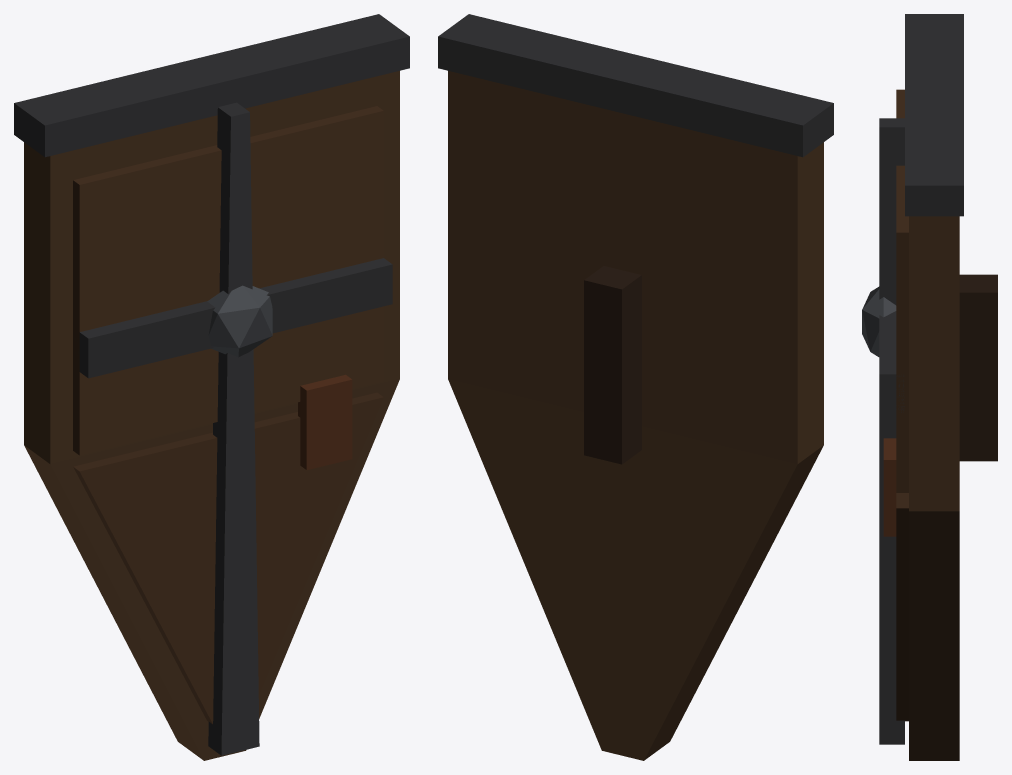
File: kite_shield.glb
The picture shows the model from 3 angles, left to right: view 1: azimuth 30°, elevation 25°; view 2: azimuth 150°, elevation 25°; view 3: azimuth 270°, elevation 25°; orthographic projection. The views are drawn at different scales.
Parts seen in each view (by area): view 1: KiteShield; view 2: KiteShield; view 3: KiteShield.
Part boxes in pixels (box(x1,y1,x2,y2)): KiteShield: box(14, 14, 409, 760); KiteShield: box(438, 14, 833, 760); KiteShield: box(862, 14, 997, 760).
Bounding box in the file's own units: 0.48 × 0.85 × 0.1605.
